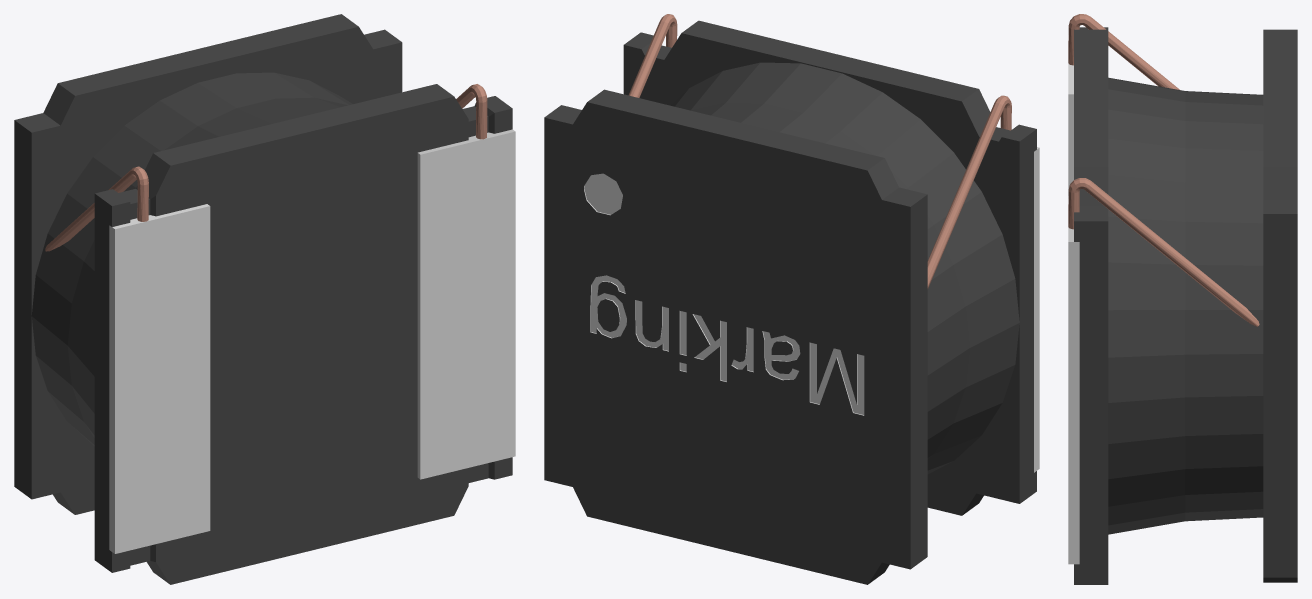
File: L_Wurth_WE-LQSH-4020.glb
The picture shows the model from 3 angles, left to right: view 1: azimuth 30°, elevation 25°; view 2: azimuth 150°, elevation 25°; view 3: azimuth 270°, elevation 25°; orthographic projection.
Parts seen in each view (by area): view 1: Shape_IndexedFaceSet.001, Shape_IndexedFaceSet.136, Shape_IndexedFaceSet.143, Shape_IndexedFaceSet.149, Shape_IndexedFaceSet.047, Shape_IndexedFaceSet.059, Shape_IndexedFaceSet.044, Shape_IndexedFaceSet.050, Shape_IndexedFaceSet.046, Shape_IndexedFaceSet.142, Shape_IndexedFaceSet.137, Shape_IndexedFaceSet.159 (+2 smaller); view 2: Shape_IndexedFaceSet.042, Shape_IndexedFaceSet.149, Shape_IndexedFaceSet.041, Shape_IndexedFaceSet.059, Shape_IndexedFaceSet.044, Shape_IndexedFaceSet.046, Shape_IndexedFaceSet.050, Shape_IndexedFaceSet.159, Shape_IndexedFaceSet.142, Shape_IndexedFaceSet.117, Shape_IndexedFaceSet.131, Shape_IndexedFaceSet.068 (+6 smaller); view 3: Shape_IndexedFaceSet.149, Shape_IndexedFaceSet.053, Shape_IndexedFaceSet.043, Shape_IndexedFaceSet.050, Shape_IndexedFaceSet.046, Shape_IndexedFaceSet.135, Shape_IndexedFaceSet.155, Shape_IndexedFaceSet.051, Shape_IndexedFaceSet.159, Shape_IndexedFaceSet.037, Shape_IndexedFaceSet.144, Shape_IndexedFaceSet.052 (+2 smaller).
Boxes of the visible parts, x1,y1,x2,y2 form: Shape_IndexedFaceSet.001: [156, 96, 468, 584]; Shape_IndexedFaceSet.136: [420, 131, 515, 479]; Shape_IndexedFaceSet.143: [115, 206, 210, 553]; Shape_IndexedFaceSet.149: [31, 72, 352, 446]; Shape_IndexedFaceSet.047: [31, 26, 402, 514]; Shape_IndexedFaceSet.059: [14, 120, 31, 498]; Shape_IndexedFaceSet.044: [94, 194, 111, 572]; Shape_IndexedFaceSet.050: [58, 14, 358, 95]; Shape_IndexedFaceSet.046: [153, 84, 453, 165]; Shape_IndexedFaceSet.142: [109, 225, 114, 553]; Shape_IndexedFaceSet.137: [417, 153, 420, 478]; Shape_IndexedFaceSet.159: [45, 168, 136, 251]; Shape_IndexedFaceSet.042: [544, 102, 910, 584]; Shape_IndexedFaceSet.149: [670, 62, 1019, 473]; Shape_IndexedFaceSet.041: [623, 33, 1019, 515]; Shape_IndexedFaceSet.059: [910, 194, 927, 568]; Shape_IndexedFaceSet.044: [1019, 129, 1036, 503]; Shape_IndexedFaceSet.046: [682, 20, 978, 101]; Shape_IndexedFaceSet.050: [587, 89, 884, 170]; Shape_IndexedFaceSet.159: [927, 103, 1004, 288]; Shape_IndexedFaceSet.142: [1034, 148, 1039, 472]; Shape_IndexedFaceSet.117: [810, 342, 864, 414]; Shape_IndexedFaceSet.131: [584, 173, 622, 214]; Shape_IndexedFaceSet.068: [591, 275, 626, 337]; Shape_IndexedFaceSet.149: [1108, 77, 1263, 534]; Shape_IndexedFaceSet.053: [1263, 214, 1297, 577]; Shape_IndexedFaceSet.043: [1074, 221, 1108, 584]; Shape_IndexedFaceSet.050: [1263, 29, 1297, 166]; Shape_IndexedFaceSet.046: [1074, 29, 1108, 166]; Shape_IndexedFaceSet.135: [1068, 242, 1079, 564]; Shape_IndexedFaceSet.155: [1084, 181, 1259, 326]; Shape_IndexedFaceSet.051: [1263, 167, 1297, 199]; Shape_IndexedFaceSet.159: [1085, 17, 1179, 89]; Shape_IndexedFaceSet.037: [1074, 167, 1108, 206]; Shape_IndexedFaceSet.144: [1068, 94, 1073, 195]; Shape_IndexedFaceSet.052: [1263, 200, 1297, 213].
Size of the model in its own units: 1.57 by 1.58 by 0.7874.
